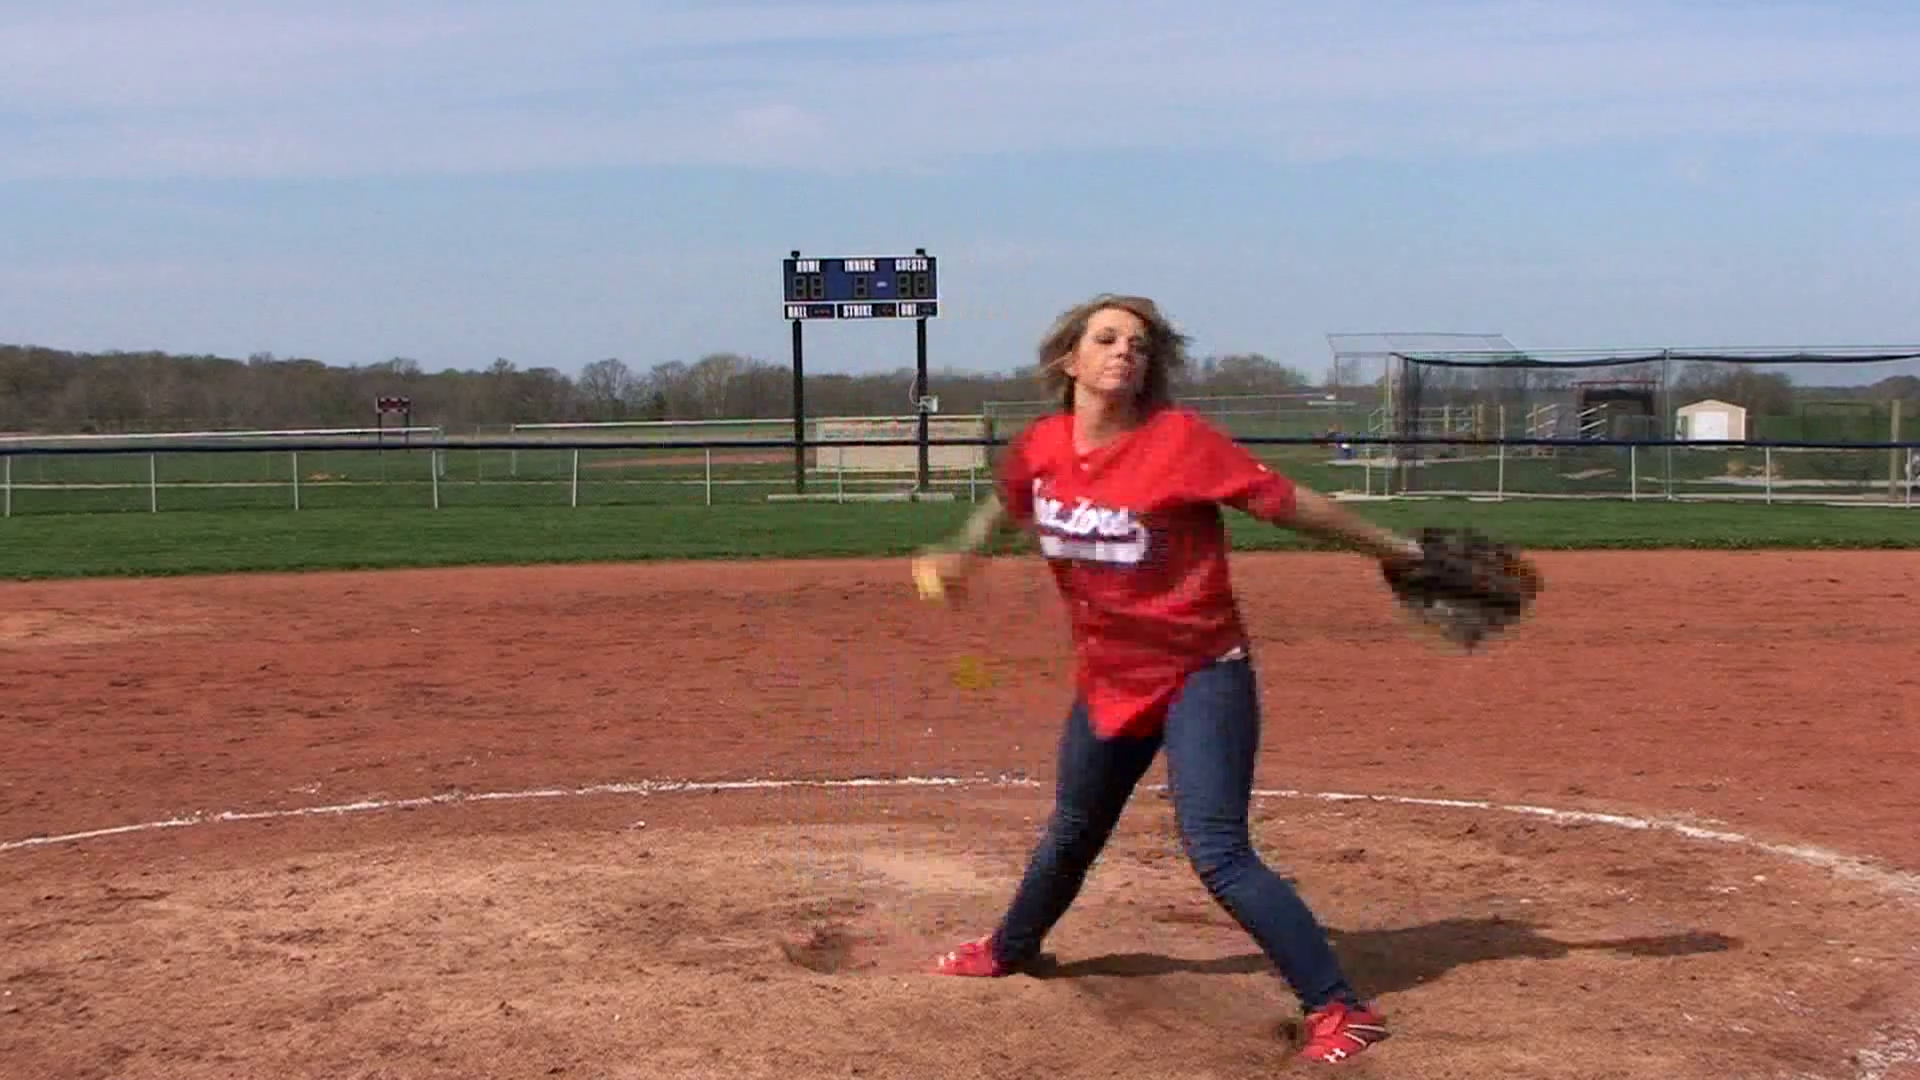person: (912, 295, 1544, 1062)
